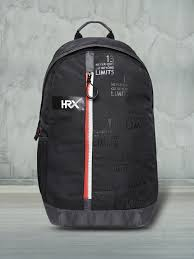backpack: (34, 20, 159, 229)
